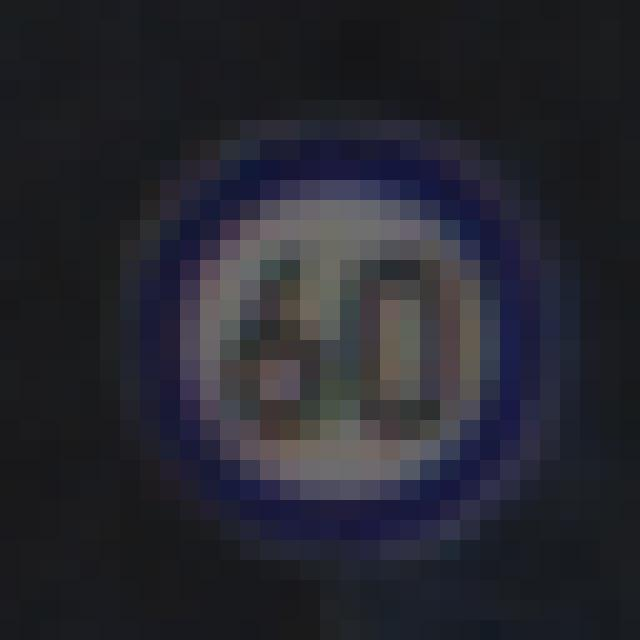SPEED-LIMIT-60: (93, 97, 584, 582)
